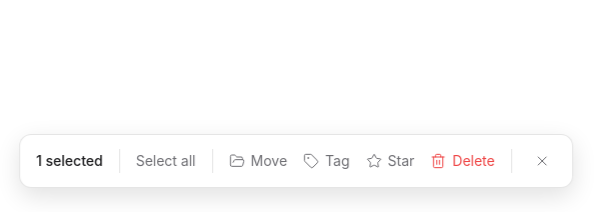
it: SelectionToolbar › renders nested folder hierarchy in move dropdown
Click the button "Move" at (258, 161), box [229,151,287,171]
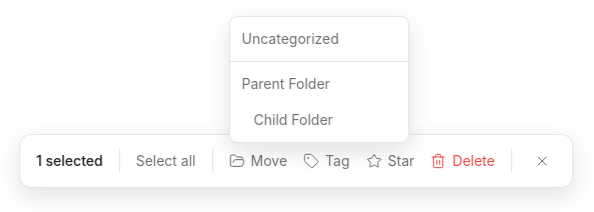
Expected: the button "Parent Folder" is shown, [230,66,408,102]
Expected: the button "Child Folder" is shown, [230,102,408,138]
